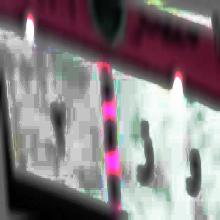2: (51, 97, 68, 157)
waw: (184, 145, 202, 206)
zay: (136, 118, 156, 191)
